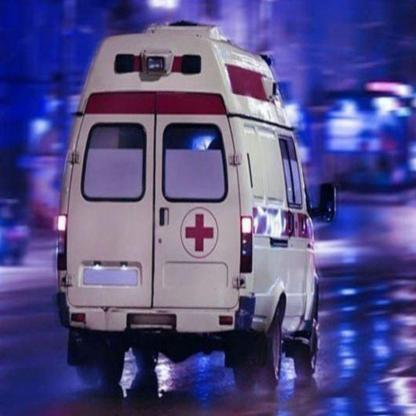Ambulance - v1 Ambulance last generate: (60, 27, 308, 376)
